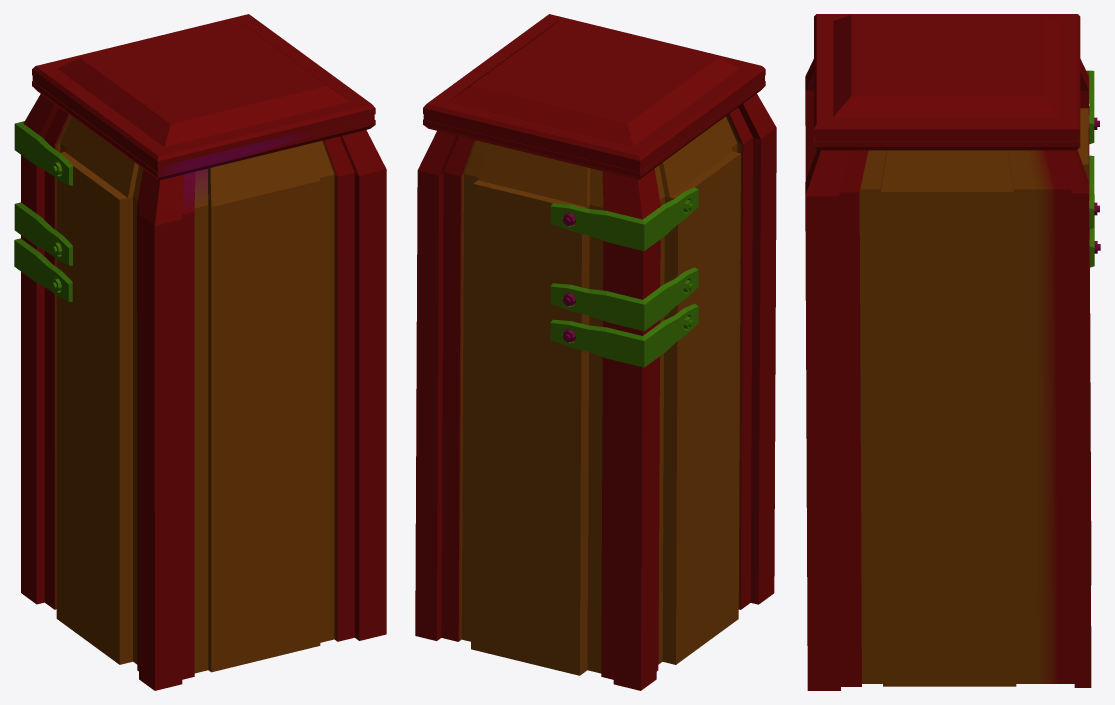
The model's file is 03_Structure.fbx.
The picture shows the model from 3 angles, left to right: view 1: azimuth 30°, elevation 25°; view 2: azimuth 150°, elevation 25°; view 3: azimuth 270°, elevation 25°; orthographic projection. The views are drawn at different scales.
Parts seen in each view (by area): view 1: box1; view 2: box1; view 3: box1.
Boxes of the visible parts, box(x1,y1,x2,y2) form: box1: box(14, 14, 386, 690); box1: box(415, 14, 776, 690); box1: box(805, 14, 1100, 690).
Size of the model in its own units: 1.18 by 2.54 by 1.18.
